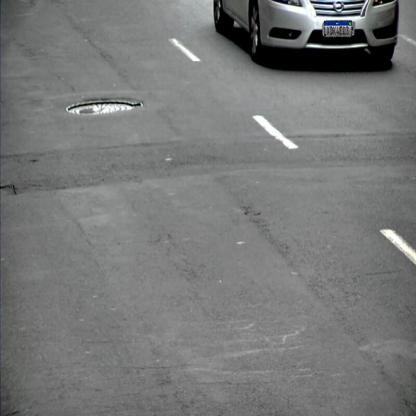PlacaM: (324, 21, 352, 37)
